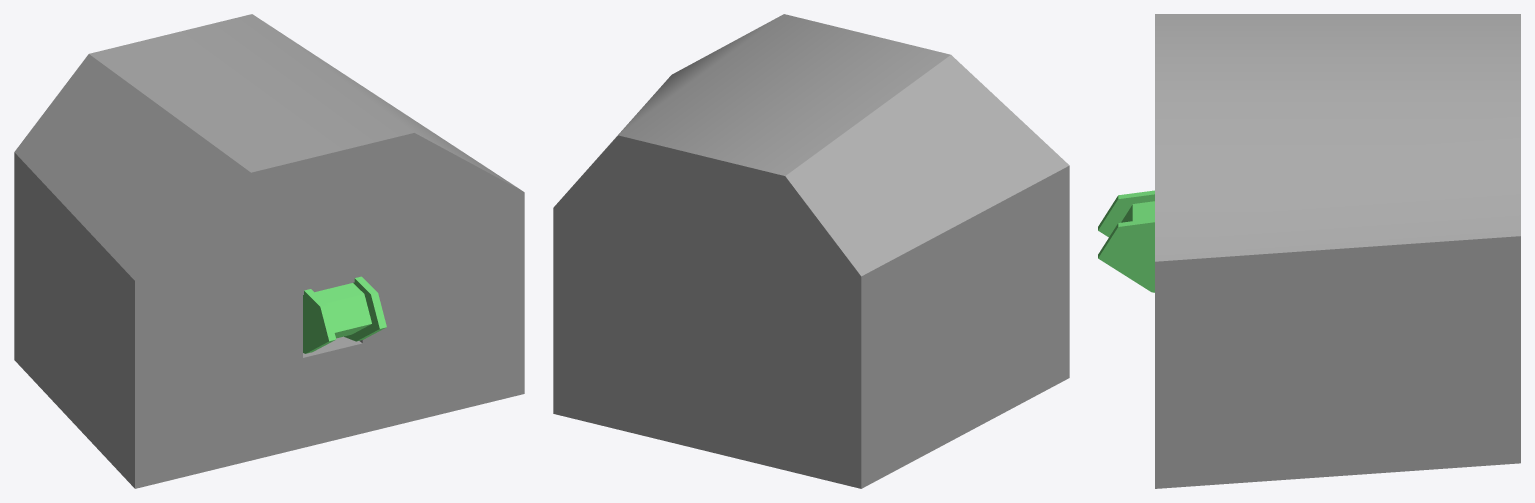
File: obj_Box_with_spinny_thing.fbx
3 views of the same model, side by side, from view 1: azimuth 30°, elevation 25°; view 2: azimuth 150°, elevation 25°; view 3: azimuth 270°, elevation 25° (orthographic). The views are drawn at different scales.
Visible parts, largest first — view 1: Box_with_spinny_thing, Spiny_thing; view 2: Box_with_spinny_thing; view 3: Box_with_spinny_thing, Spiny_thing.
Boxes of the visible parts, x1,y1,x2,y2 form: Box_with_spinny_thing: [14, 14, 524, 488]; Spiny_thing: [303, 276, 386, 353]; Box_with_spinny_thing: [553, 14, 1069, 488]; Box_with_spinny_thing: [1155, 14, 1520, 488]; Spiny_thing: [1098, 190, 1154, 292].
Size of the model in its own units: 1.39 by 0.9789 by 1.16.
